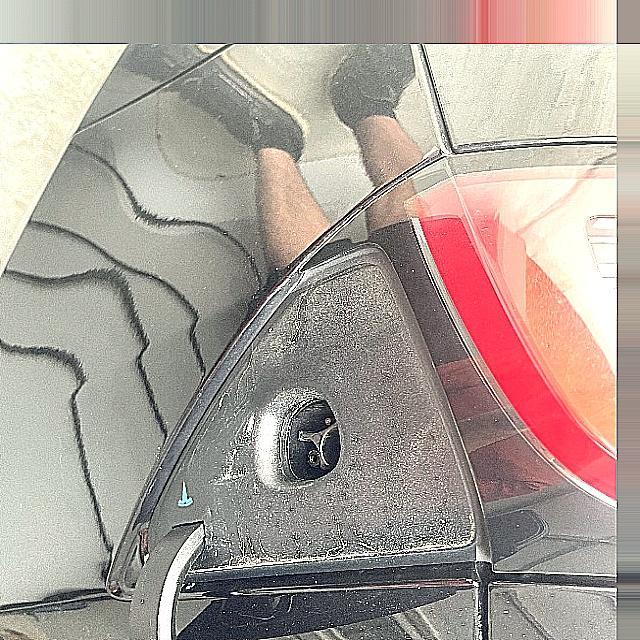Tesla Model-S-: (243, 382, 354, 514)
